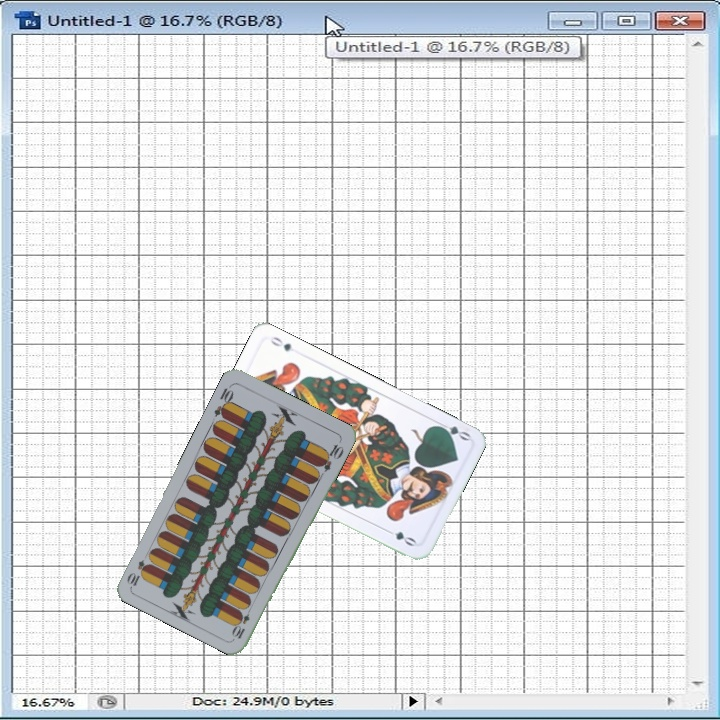E10: (210, 381, 236, 421), (229, 602, 254, 641)
GO: (432, 418, 473, 443)
